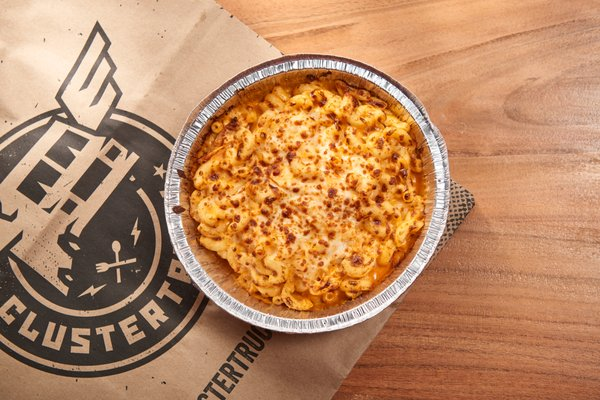sushi: (161, 55, 451, 334)
